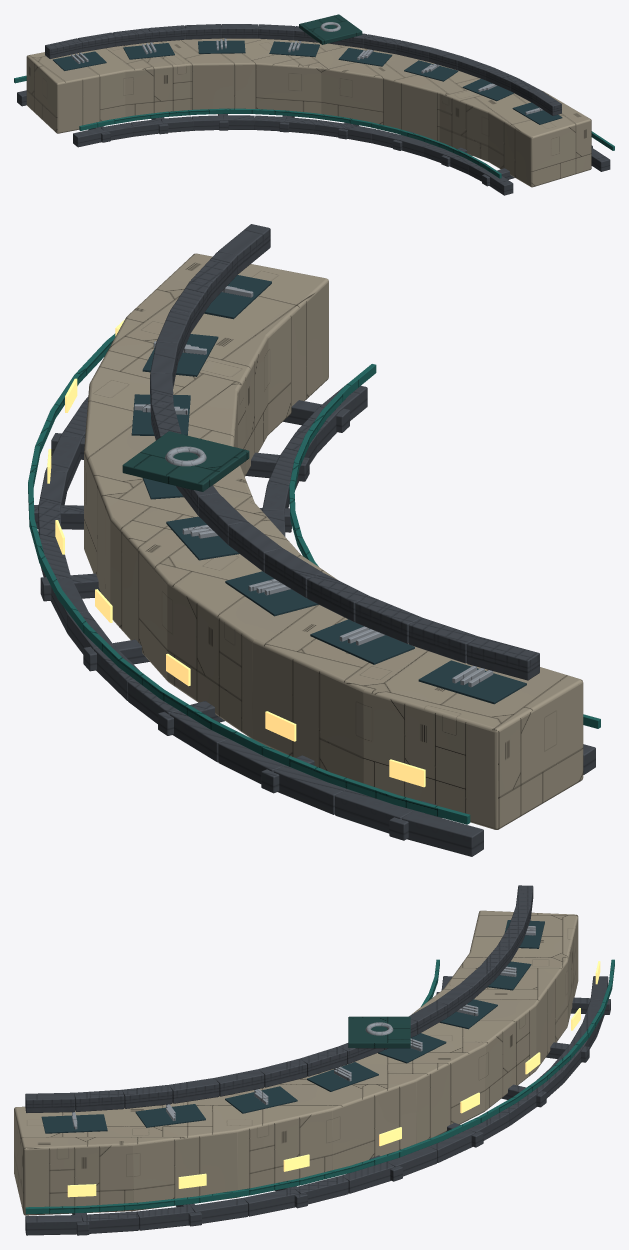
The model's file is large_habitation_ring_quadrant_lod0.glb.
3 renders of one model, top to bottom at view 1: azimuth 30°, elevation 25°; view 2: azimuth 150°, elevation 25°; view 3: azimuth 270°, elevation 25°, orthographic. The views are drawn at different scales.
Parts seen in each view (by area): view 1: LOD0_Hull, LOD0_Mechanical, LOD0_CANOPY, LOD0_Livery, LOD0_Armor, LOD0_BrushedMetal; view 2: LOD0_Hull, LOD0_Mechanical, LOD0_CANOPY, LOD0_Livery, LOD0_Armor, LOD0_BrushedMetal, LOD0_Lights_Warm; view 3: LOD0_Hull, LOD0_Mechanical, LOD0_CANOPY, LOD0_Livery, LOD0_Lights_Warm, LOD0_Armor, LOD0_BrushedMetal.
Part boxes in pixels (left/top/right/bottom): LOD0_Hull: left=26, top=38, right=591, bottom=187; LOD0_Mechanical: left=17, top=24, right=610, bottom=195; LOD0_CANOPY: left=53, top=40, right=562, bottom=124; LOD0_Livery: left=14, top=75, right=614, bottom=178; LOD0_Armor: left=299, top=14, right=362, bottom=44; LOD0_BrushedMetal: left=71, top=22, right=543, bottom=114; LOD0_Hull: left=84, top=253, right=583, bottom=829; LOD0_Mechanical: left=34, top=224, right=595, bottom=856; LOD0_CANOPY: left=131, top=275, right=526, bottom=704; LOD0_Livery: left=28, top=333, right=600, bottom=824; LOD0_Armor: left=122, top=431, right=249, bottom=491; LOD0_BrushedMetal: left=134, top=286, right=493, bottom=687; LOD0_Lights_Warm: left=47, top=319, right=425, bottom=787; LOD0_Hull: left=14, top=910, right=578, bottom=1215; LOD0_Mechanical: left=25, top=885, right=610, bottom=1235; LOD0_CANOPY: left=41, top=920, right=544, bottom=1133; LOD0_Livery: left=25, top=959, right=614, bottom=1214; LOD0_Lights_Warm: left=67, top=961, right=600, bottom=1197; LOD0_Armor: left=348, top=1016, right=410, bottom=1048; LOD0_BrushedMetal: left=72, top=926, right=535, bottom=1129.
Size of the model in its own units: 48.07 by 9.84 by 48.07.
7 materials, 5 textured.
